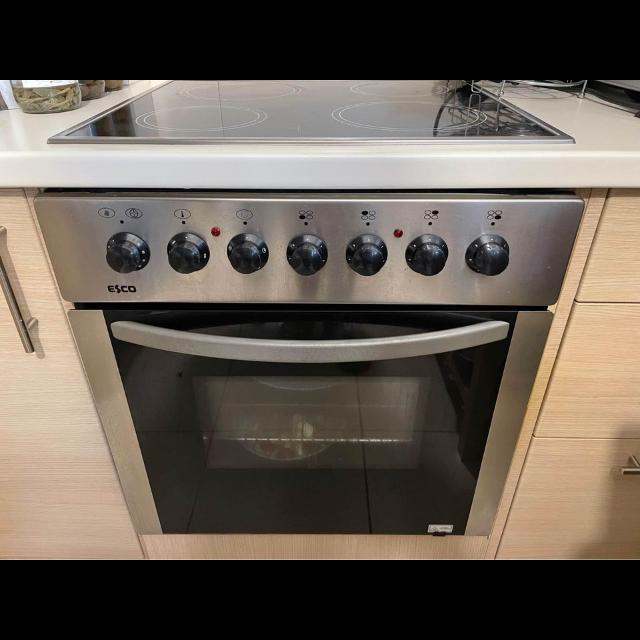Oven: (28, 195, 562, 560)
